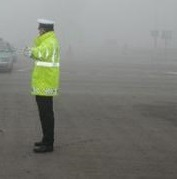person: (23, 16, 62, 155)
